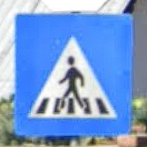trecere_pietoni: (13, 12, 131, 136)
